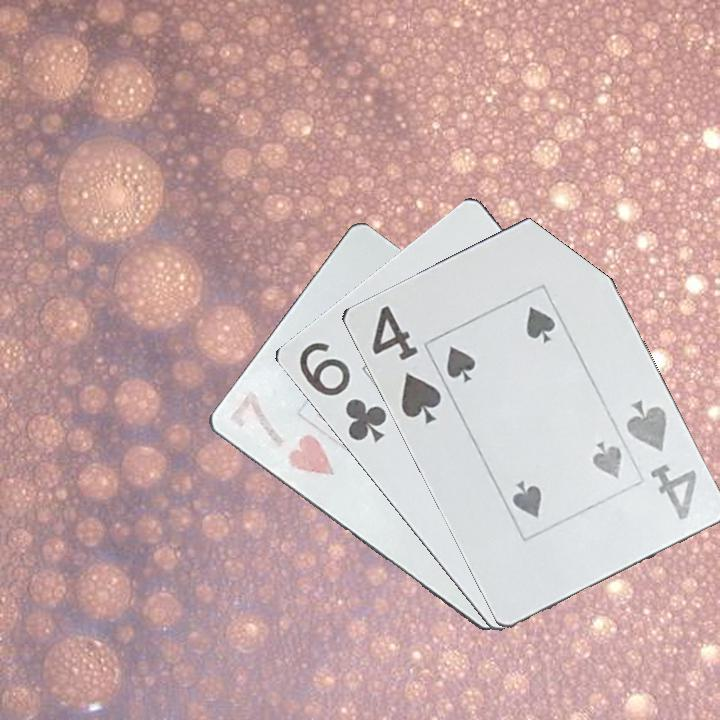4s: (367, 301, 444, 431), (621, 398, 700, 523)
6c: (293, 338, 390, 445)
7h: (225, 387, 337, 479)
